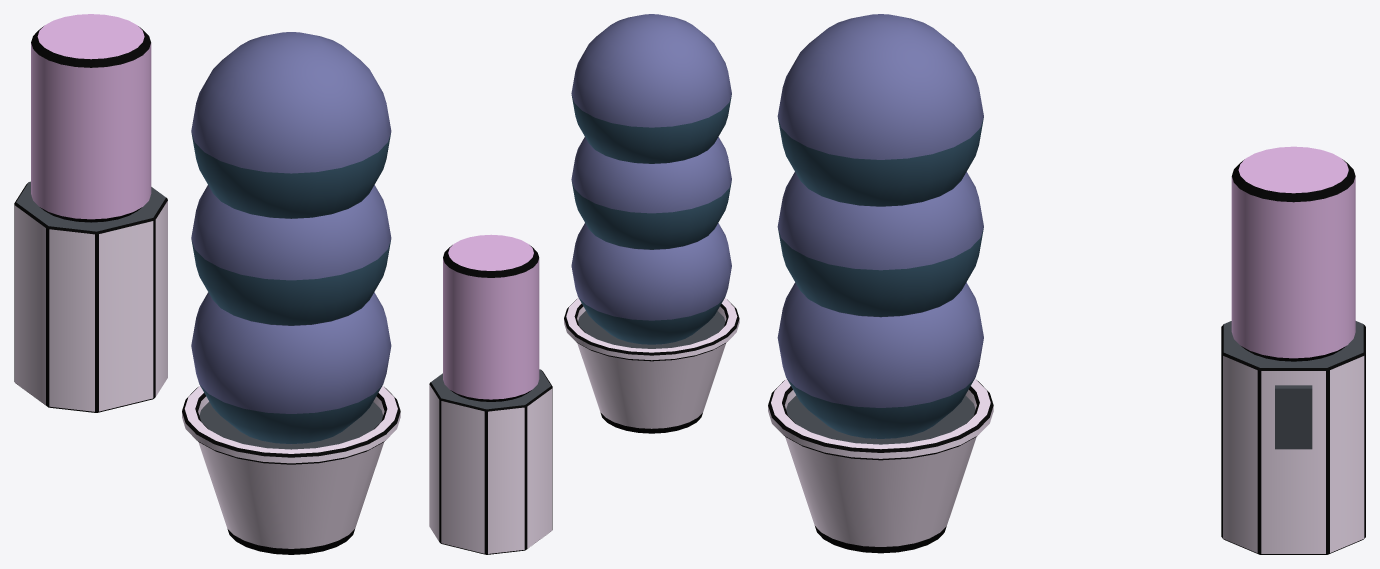
Rendered from Props.fbx.
The picture shows the model from 3 angles, left to right: view 1: azimuth 30°, elevation 25°; view 2: azimuth 150°, elevation 25°; view 3: azimuth 270°, elevation 25°; orthographic projection. The views are drawn at different scales.
Parts seen in each view (by area): view 1: Planty, Water Cooler; view 2: Planty, Water Cooler; view 3: Planty, Water Cooler.
Boxes of the visible parts, box(x1,y1,x2,y2) form: Planty: box(182, 32, 400, 554); Water Cooler: box(14, 14, 167, 412); Planty: box(564, 14, 739, 433); Water Cooler: box(429, 234, 552, 554); Planty: box(768, 14, 993, 553); Water Cooler: box(1221, 146, 1365, 554).
Bounding box in the file's own units: 2.19 × 5.37 × 5.79.
